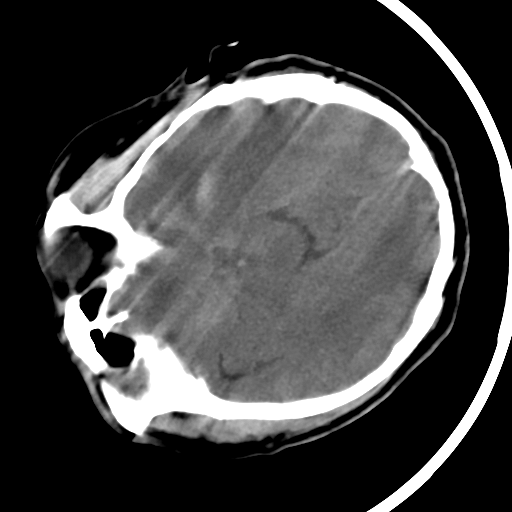a: (179, 155, 241, 230)
